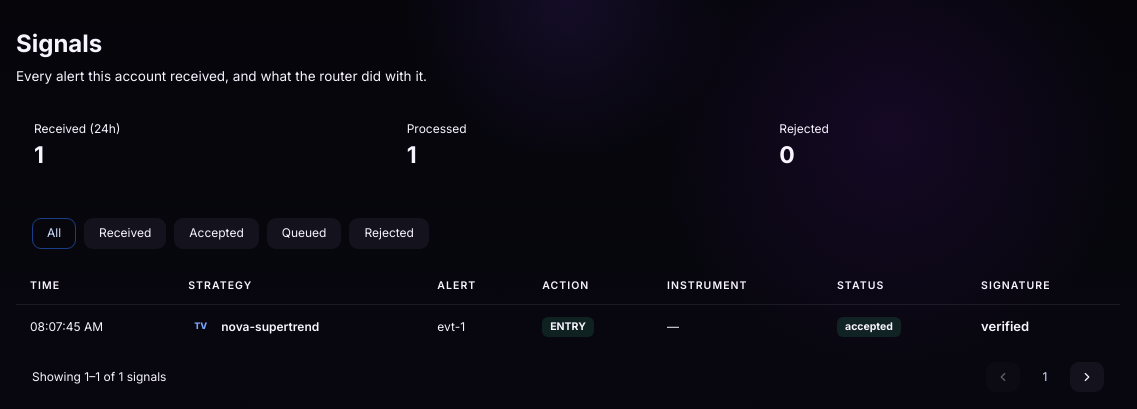
Test: SignalsPage › pages through the real cursor API and can return to the previous page
Check: the text "evt-1" is shown, box [423, 304, 528, 348]
What coordinates should you click on to do the following:
click the button named "Next page"
I would click on:
 (1087, 377)
Its box is [1070, 362, 1104, 392].
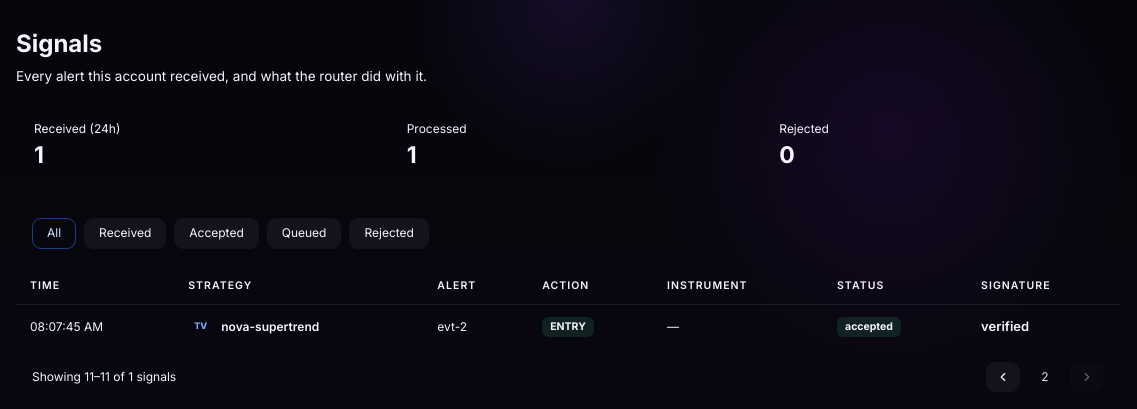
Check: the text "evt-2" is shown, box [423, 304, 528, 348]
What coordinates should you click on to do the following:
click the button named "Previous page"
I would click on:
 (1003, 377)
Its box is [986, 362, 1020, 392].
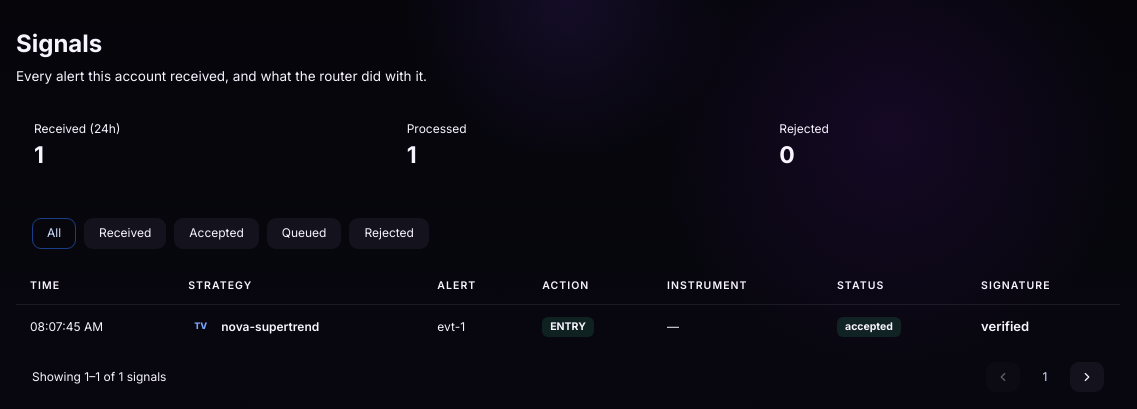
Check: the text "evt-1" is shown, box [423, 304, 528, 348]
